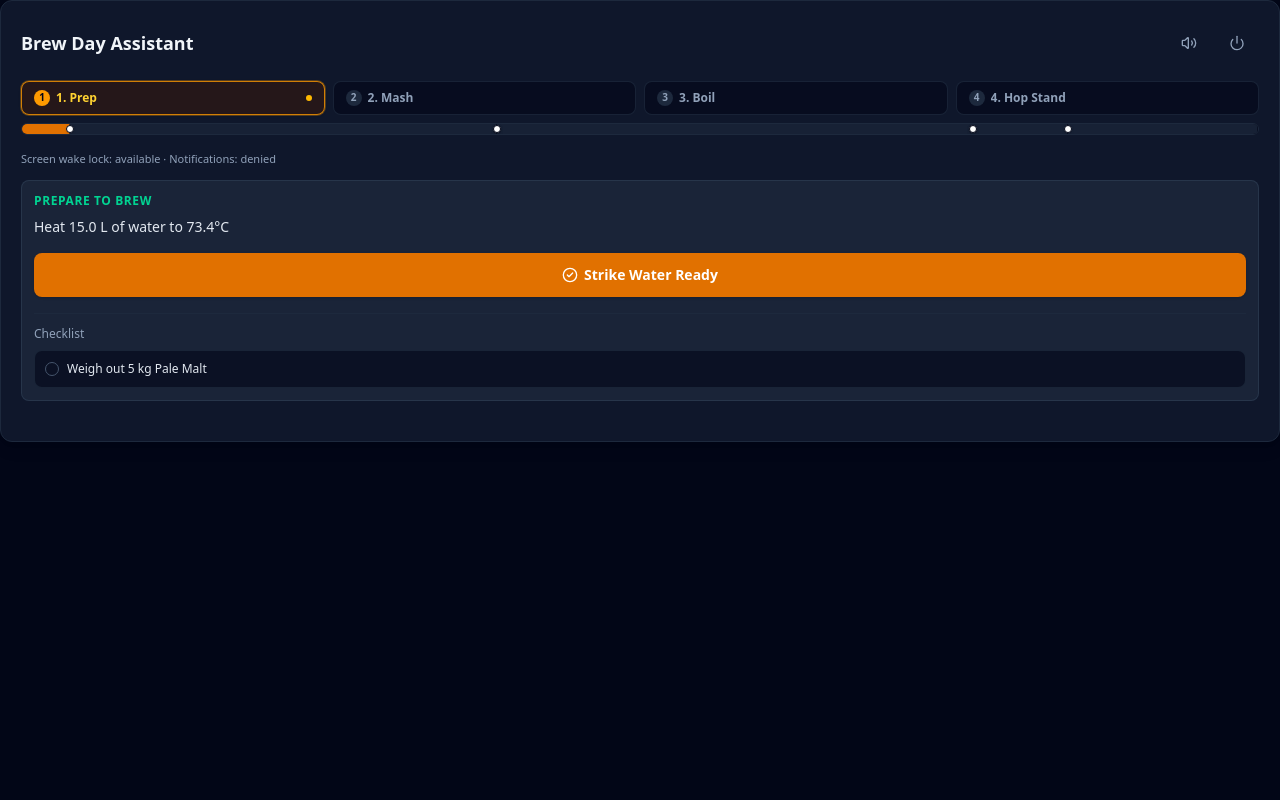
Test case: AC-7: brew day progress timeline › clicking a stage switches the active step card
Check: the text with test id "brew-day-guidance" shows "Heat", box x1=34 y1=216 x2=229 y2=236
Click the button with test id "brew-day-stage-boil" at (783,129), box x1=497 y1=124 x2=1068 y2=134
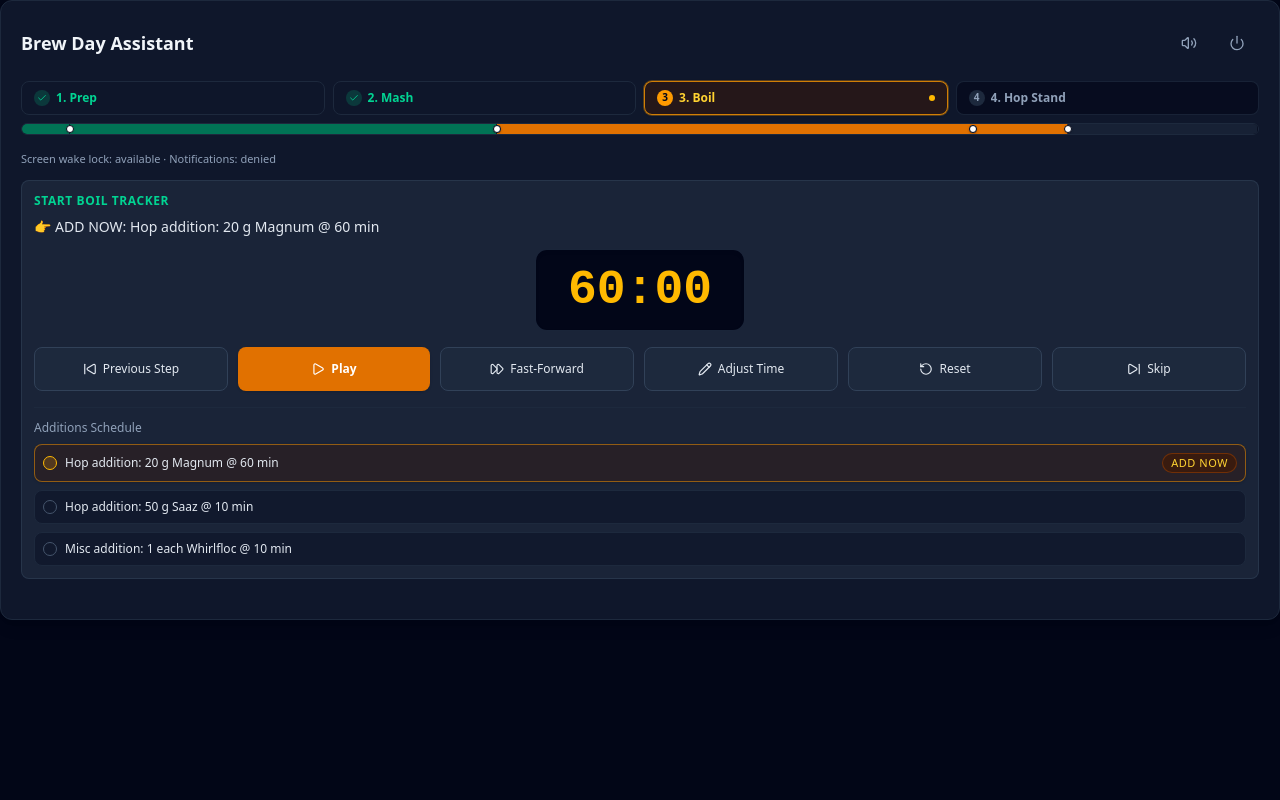
Check: the text with test id "brew-day-guidance" reads "👉 ADD NOW: Hop addition: 20 g Magnum @ 60 min", box x1=34 y1=216 x2=379 y2=236
